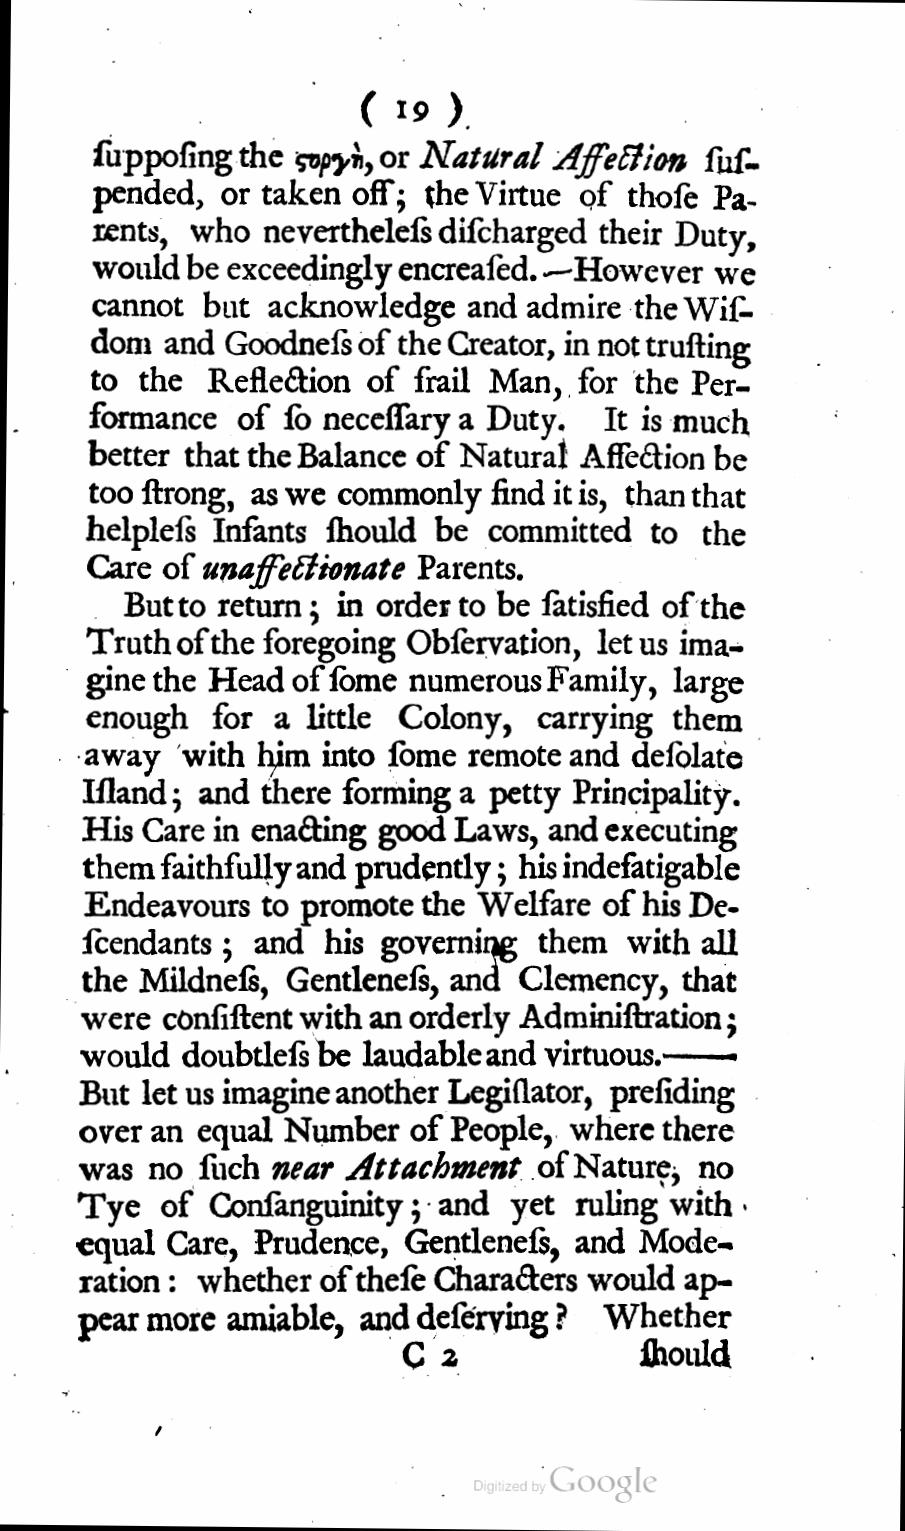bottom_p: (86, 134, 760, 586)
catchword: (638, 1332, 738, 1376)
page_num: (392, 94, 432, 126)
signature: (398, 1338, 464, 1376)
top_p: (76, 588, 748, 1342)
